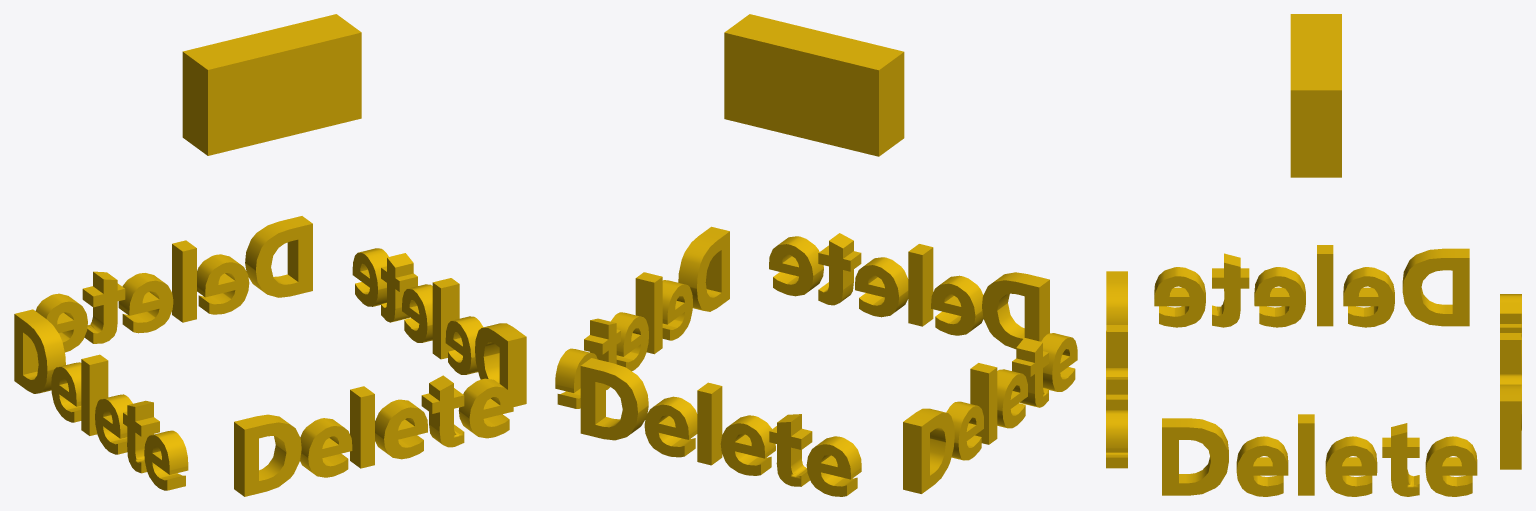
The model's file is ModeDelete.fbx.
3 renders of one model, left to right at view 1: azimuth 30°, elevation 25°; view 2: azimuth 150°, elevation 25°; view 3: azimuth 270°, elevation 25°, orthographic.
Parts seen in each view (by area): view 1: Trim_Char_x_12_1, polySurface76, polySurface83, polySurface84, polySurface82; view 2: Trim_Char_x_12_1, polySurface83, polySurface76, polySurface84, polySurface82; view 3: polySurface84, polySurface82, Trim_Char_x_12_1, polySurface76, polySurface83.
Boxes of the visible parts, x1,y1,x2,y2 form: Trim_Char_x_12_1: [182, 14, 361, 155]; polySurface76: [234, 375, 513, 496]; polySurface83: [35, 216, 312, 352]; polySurface84: [14, 309, 188, 490]; polySurface82: [352, 248, 526, 406]; Trim_Char_x_12_1: [724, 14, 904, 156]; polySurface83: [580, 358, 861, 496]; polySurface76: [769, 233, 1049, 349]; polySurface84: [903, 333, 1077, 493]; polySurface82: [555, 226, 729, 408]; polySurface84: [1154, 245, 1469, 327]; polySurface82: [1162, 414, 1477, 496]; Trim_Char_x_12_1: [1290, 14, 1341, 177]; polySurface76: [1106, 271, 1127, 468]; polySurface83: [1500, 294, 1521, 469].
Bounding box in the file's own units: 0.8776 × 0.8165 × 0.8629.
